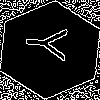Y: (24, 25, 78, 63)
